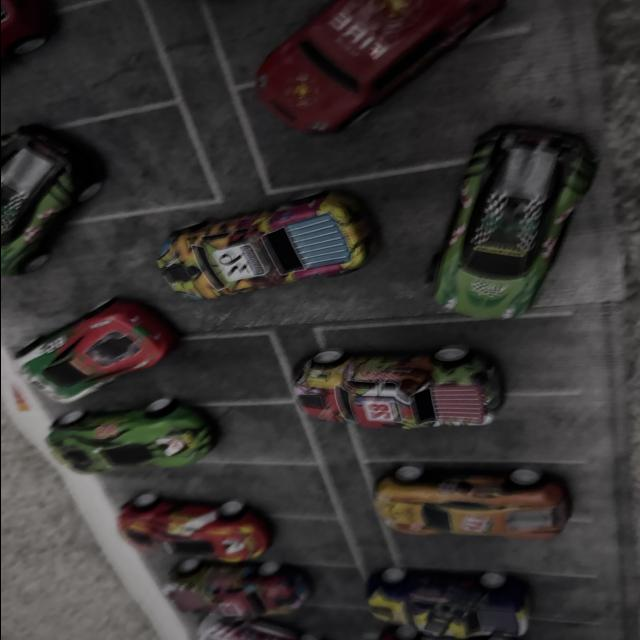Car: (247, 0, 516, 142), (130, 161, 360, 298), (278, 320, 514, 430), (468, 174, 590, 342), (358, 430, 574, 514), (324, 565, 556, 640), (32, 399, 232, 468), (107, 492, 290, 556), (123, 554, 307, 616), (3, 325, 205, 381), (0, 164, 102, 274), (162, 609, 376, 640), (0, 0, 78, 66)
